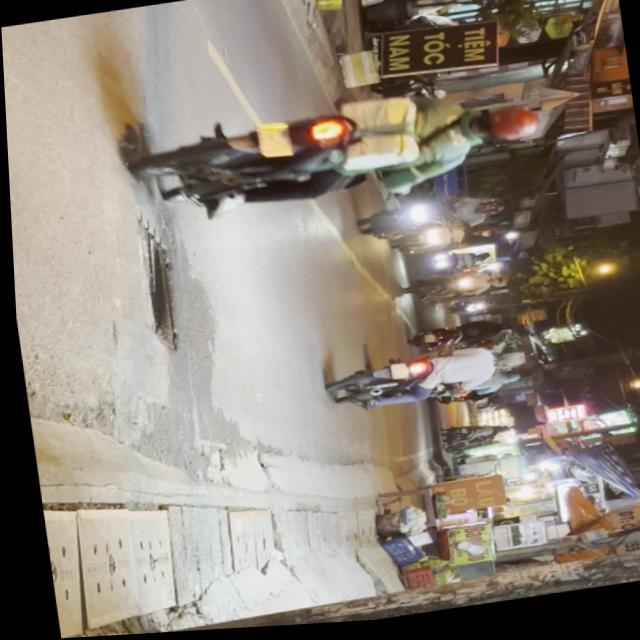helmet: (469, 104, 542, 151)
licenseplate: (129, 73, 552, 232), (321, 342, 528, 419)
motorcyclist: (491, 354, 523, 374)
nohelmet: (255, 123, 291, 161), (385, 365, 403, 383)
